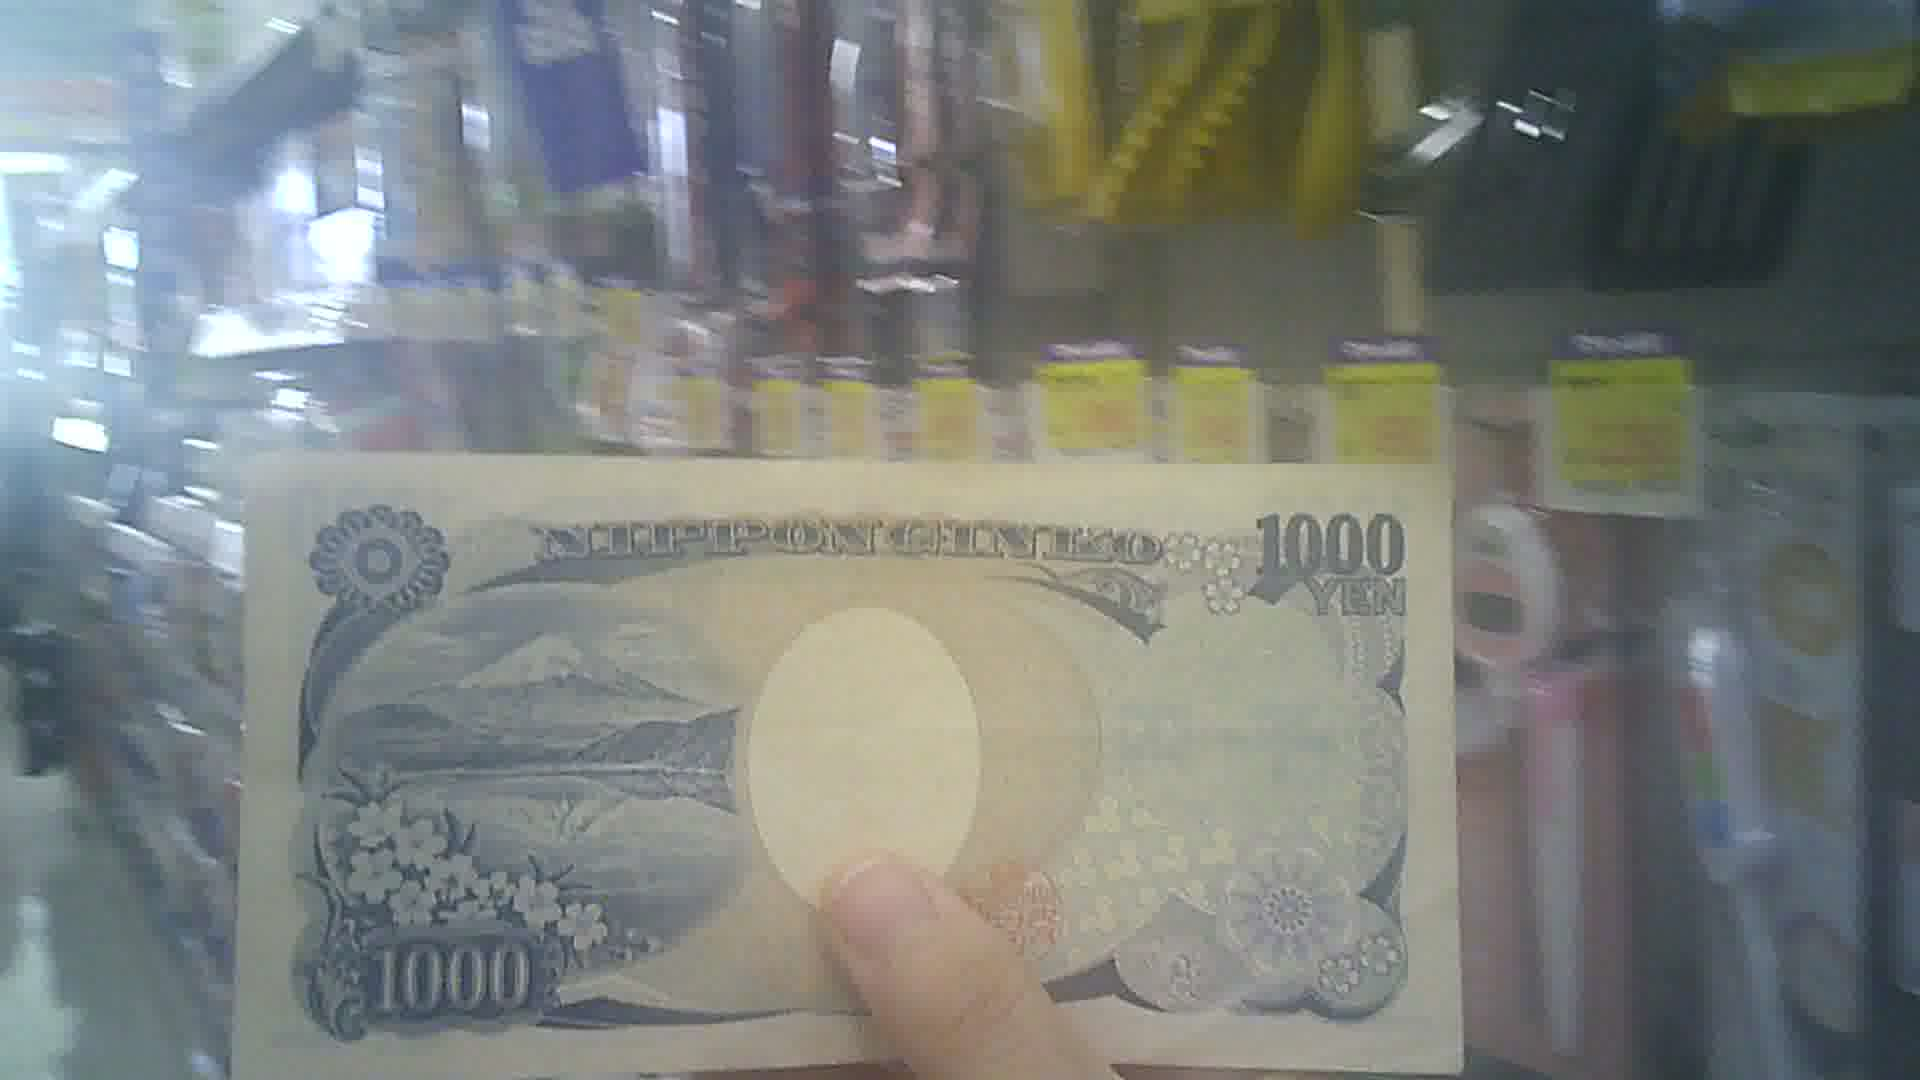1,000 Yen: (233, 448, 1476, 1064)
